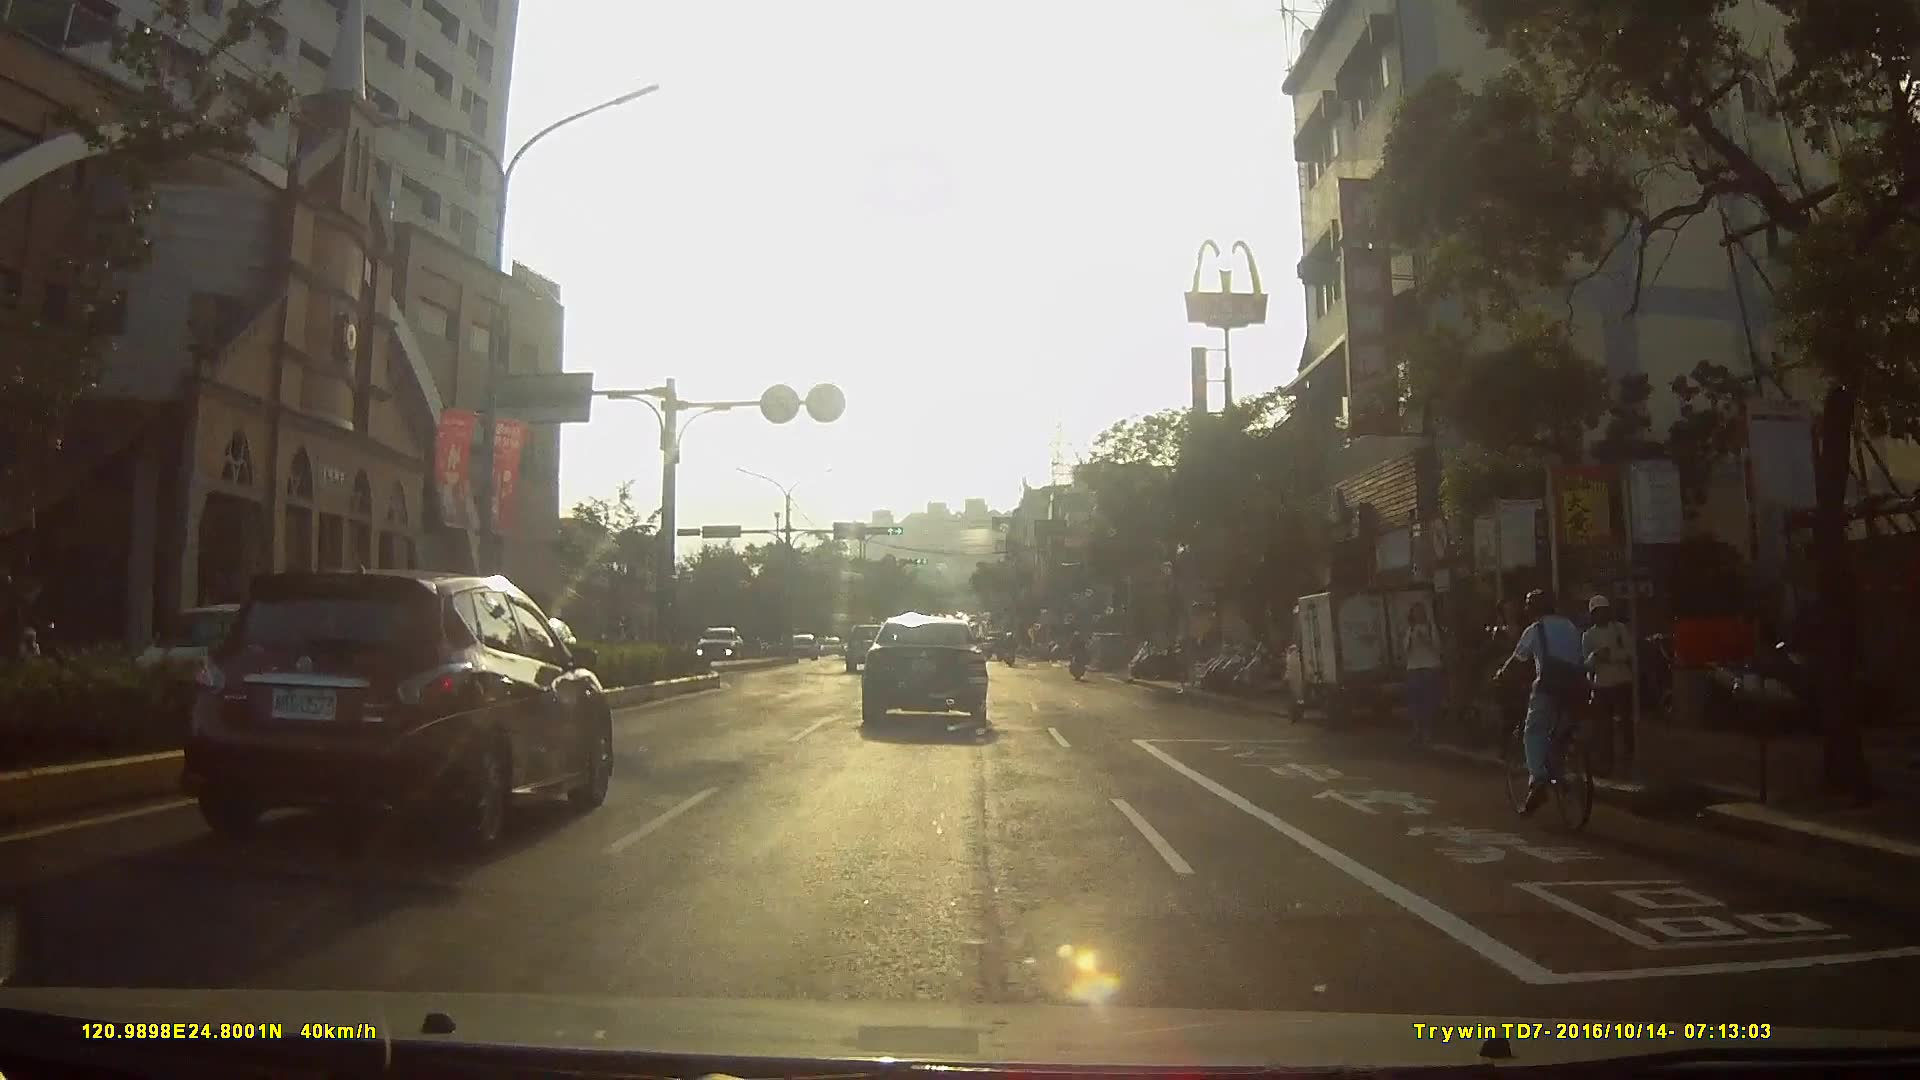pedestrian: (1576, 592, 1640, 776), (1482, 591, 1543, 772), (1398, 597, 1451, 750)
rider: (1483, 581, 1602, 835), (1067, 626, 1093, 685)
vehicle: (164, 562, 628, 852), (1272, 575, 1463, 742), (861, 610, 1005, 736), (840, 618, 899, 673), (688, 623, 747, 669), (776, 630, 812, 664)
